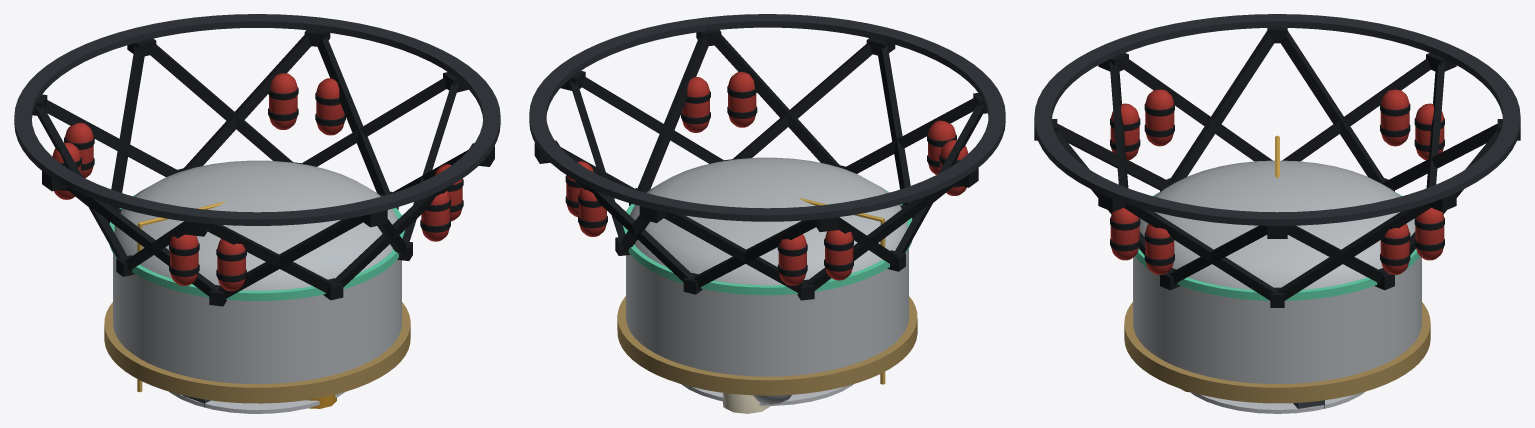
The model's file is dcss_lox.glb.
3 renders of one model, left to right at view 1: azimuth 30°, elevation 25°; view 2: azimuth 150°, elevation 25°; view 3: azimuth 270°, elevation 25°, orthographic. The views are drawn at different scales.
Visible parts, largest first — view 1: frames, shell, slot_bulkhead, slot_pressurisation; view 2: frames, shell, slot_bulkhead, slot_pressurisation, slot_feedline__tunnel; view 3: frames, shell, slot_bulkhead, slot_pressurisation.
Boxes of the visible parts, left/top/right/bottom form: frames: left=14, top=14, right=500, bottom=413; shell: left=113, top=254, right=401, bottom=384; slot_bulkhead: left=114, top=160, right=400, bottom=290; slot_pressurisation: left=52, top=73, right=463, bottom=291; frames: left=529, top=14, right=1005, bottom=405; shell: left=626, top=249, right=908, bottom=376; slot_bulkhead: left=627, top=157, right=907, bottom=285; slot_pressurisation: left=565, top=72, right=968, bottom=285; slot_feedline__tunnel: left=722, top=392, right=770, bottom=413; frames: left=1034, top=14, right=1520, bottom=413; shell: left=1133, top=256, right=1421, bottom=383; slot_bulkhead: left=1139, top=160, right=1415, bottom=289; slot_pressurisation: left=1110, top=89, right=1444, bottom=274.
Bounding box in the file's own units: 3.38 × 2 × 3.38.
